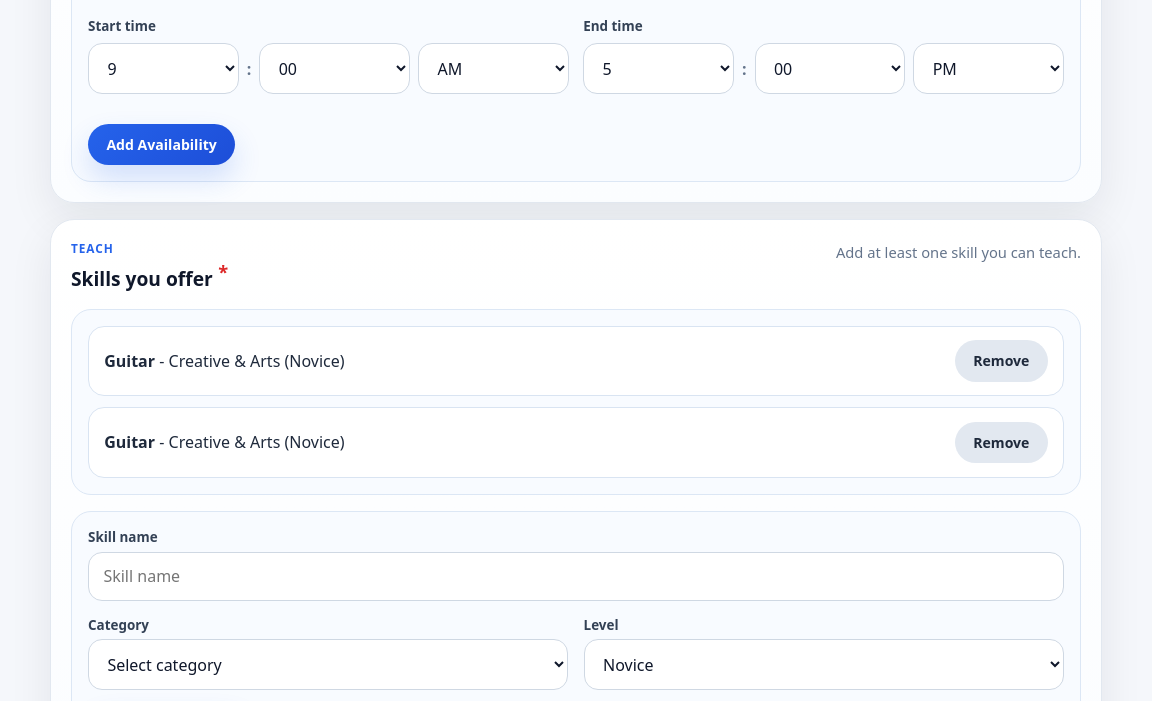
Test case: Profile Page › removes all identical offered skills at once
(page scrolled)
Click the 1st button "Remove": click(1001, 361) [955, 340, 1048, 382]
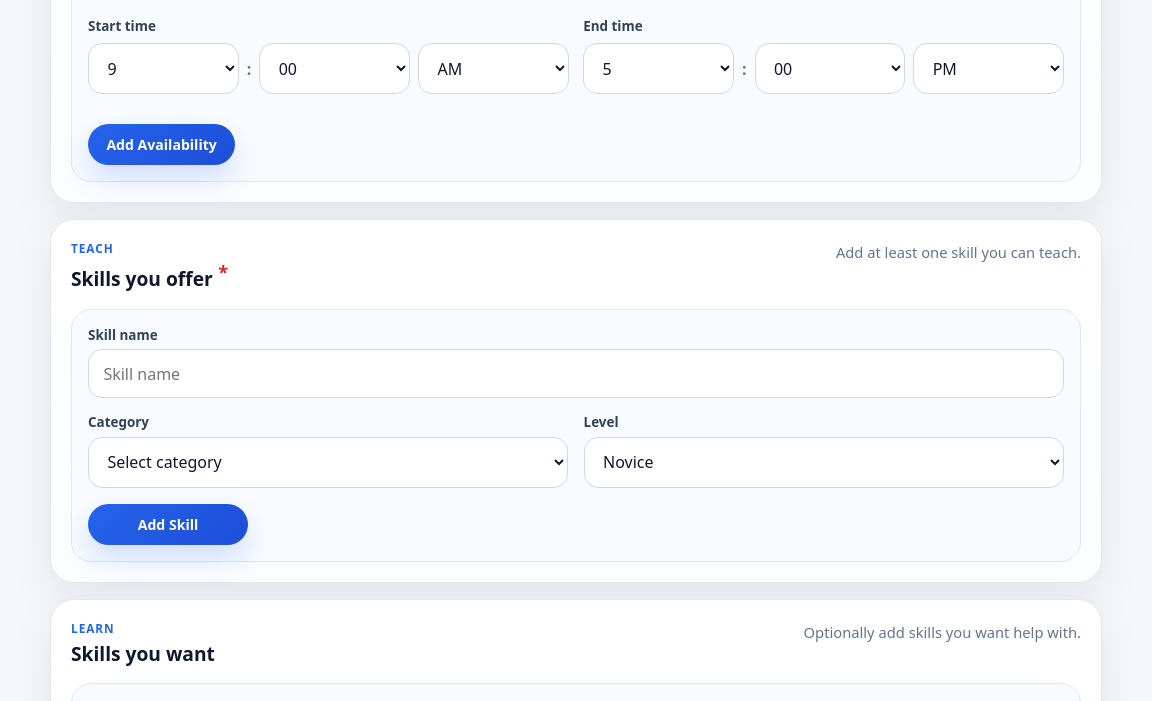
Expected: the text "Guitar - Creative & Arts (Novice)" is gone
